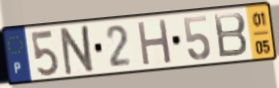2: (105, 24, 134, 70)
5: (29, 28, 61, 78), (182, 13, 212, 62)
B: (212, 11, 250, 60)
H: (135, 17, 174, 68)
N: (58, 23, 97, 78)
